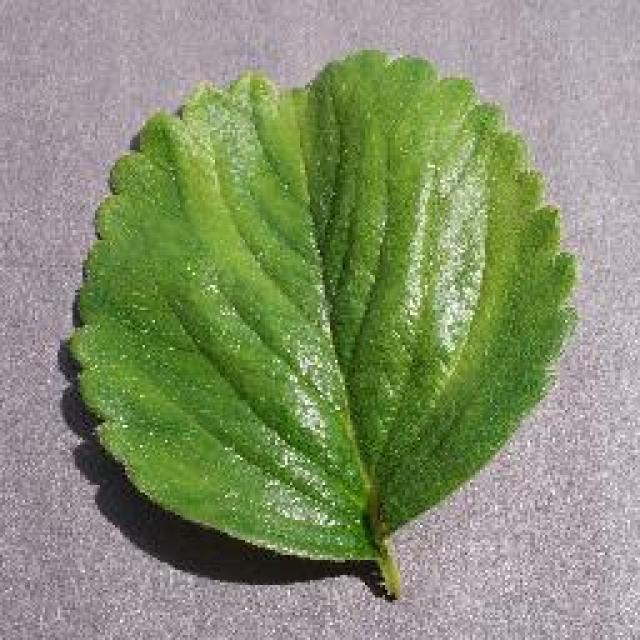Strawberry___healthy: (58, 28, 590, 618)
